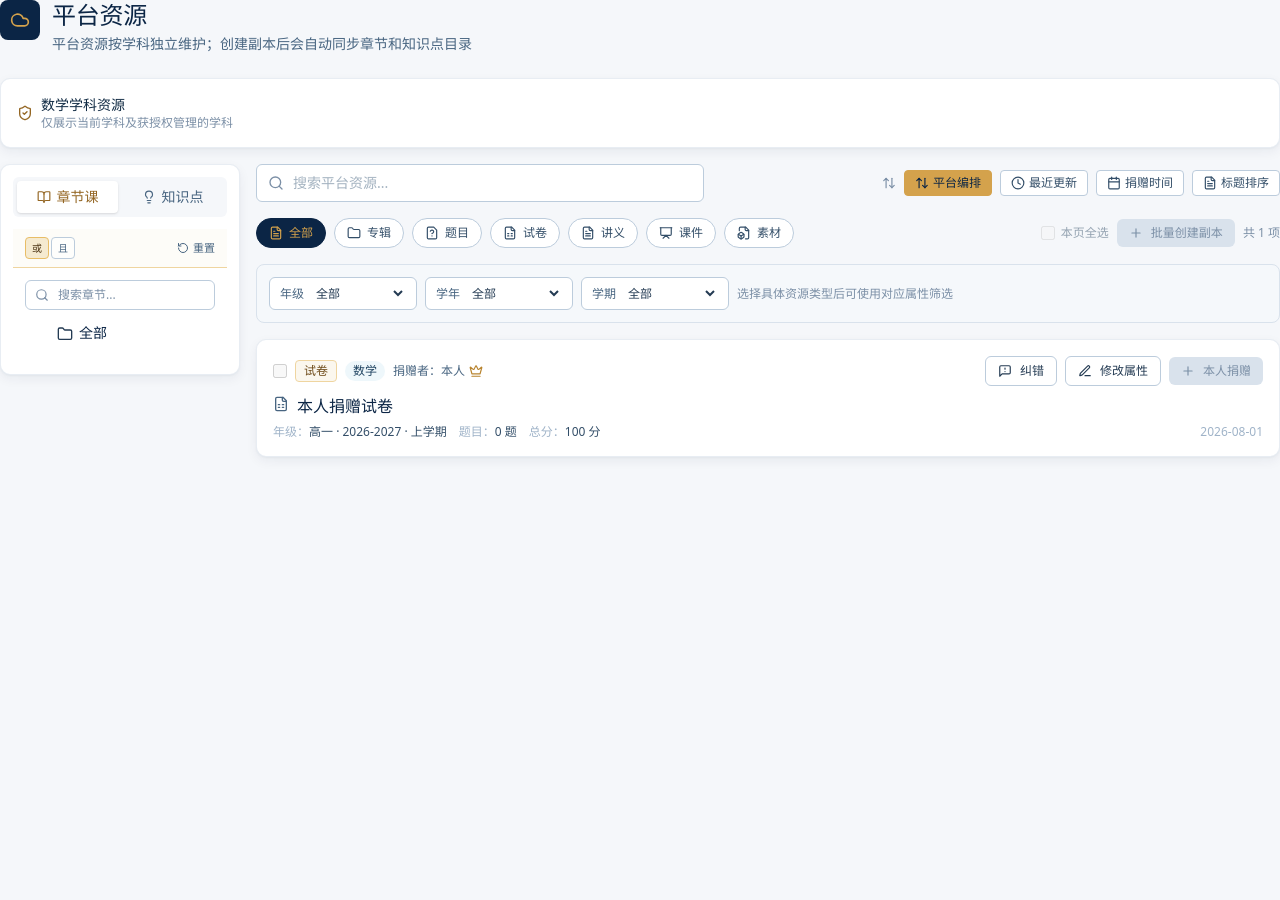
Test: PlatformResourcesPage layout and filters › does not offer save in preview for the document donor
This screenshot has width=1280, height=900.
Click the button "本人捐赠试卷".
click(345, 407)  # box x1=297 y1=394 x2=393 y2=420
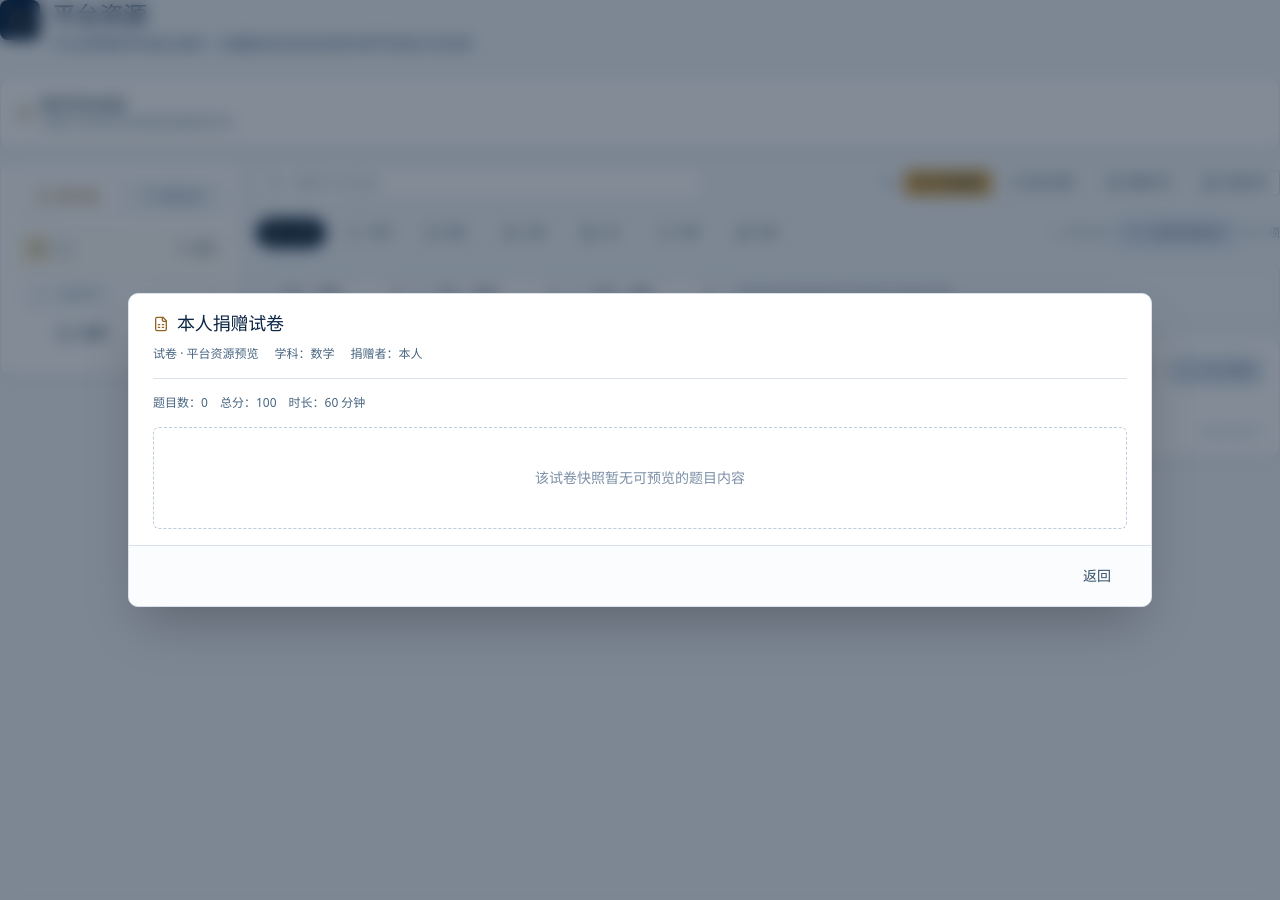
Now the text "试卷 · 平台资源预览" is shown, box x1=153 y1=346 x2=258 y2=362
Now the button "返回" is shown, box x1=1067 y1=558 x2=1127 y2=594
